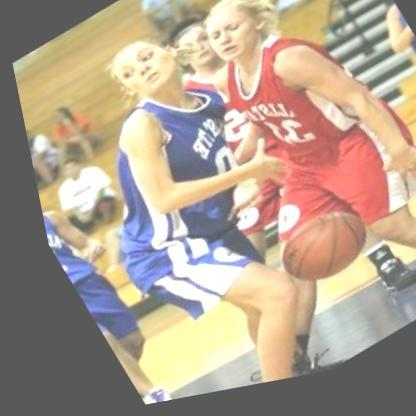basketball: (244, 199, 374, 312)
